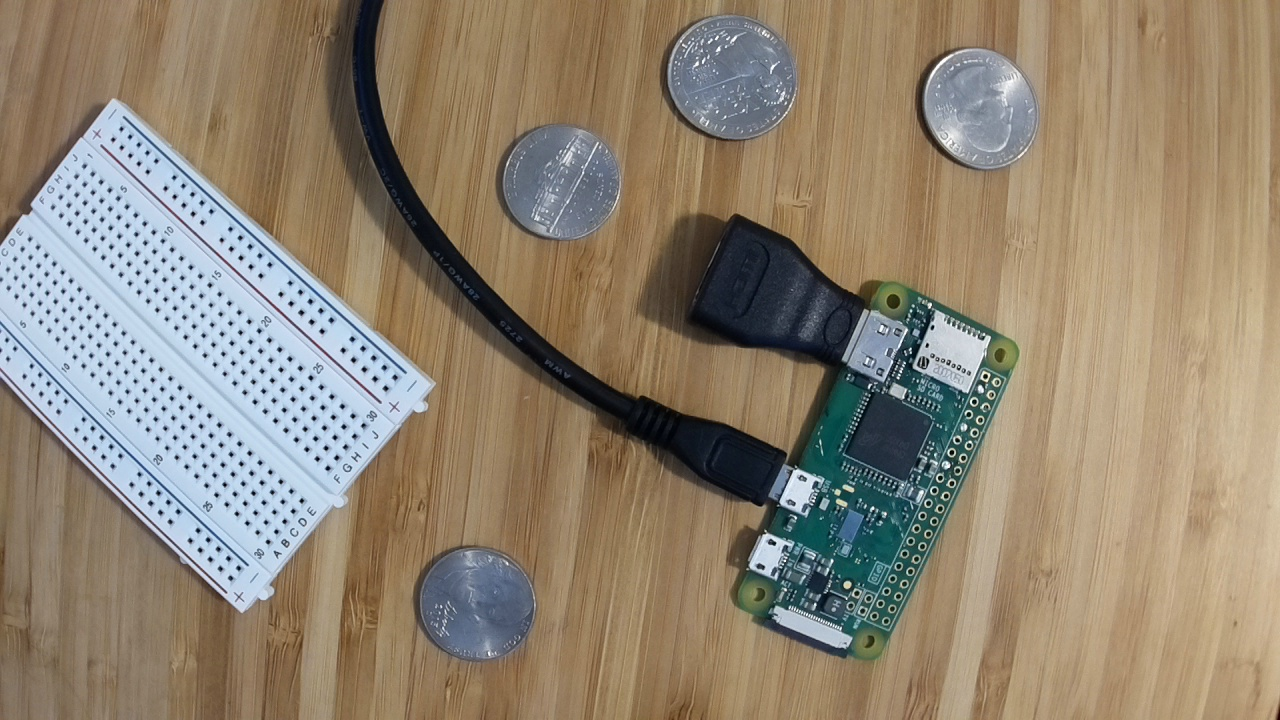nickel: (497, 121, 625, 241), (414, 542, 536, 664)
quarter: (664, 12, 800, 146), (915, 42, 1041, 172)
